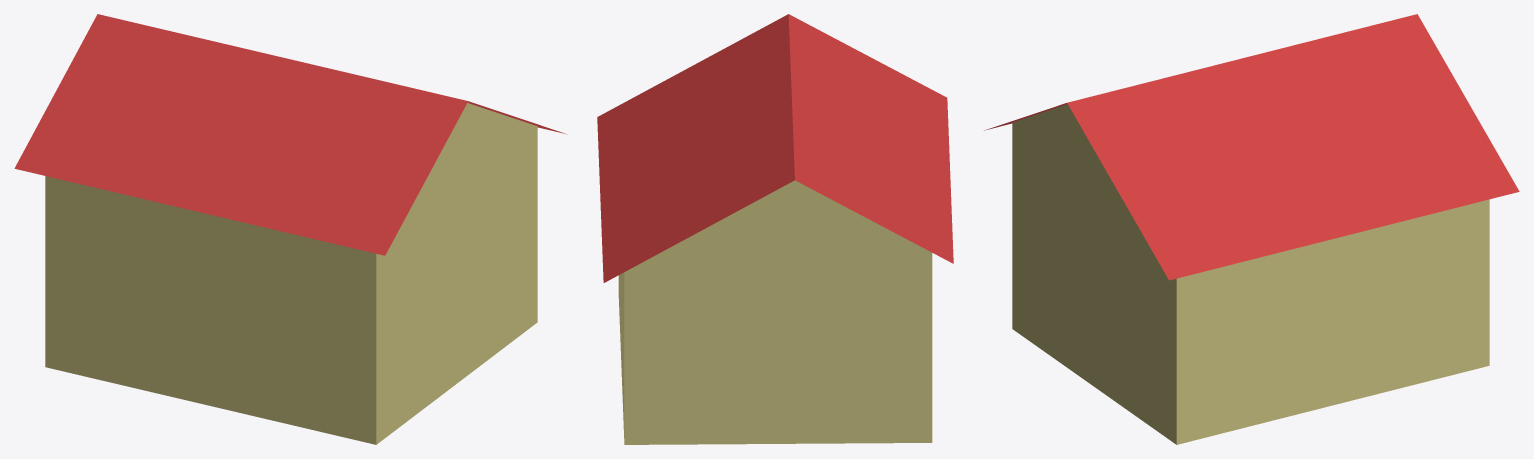
3 renders of one model, left to right at view 1: azimuth 30°, elevation 25°; view 2: azimuth 150°, elevation 25°; view 3: azimuth 270°, elevation 25°, orthographic. The views are drawn at different scales.
Bounding box in the file's own units: 17.82 × 18.35 × 10.66.
